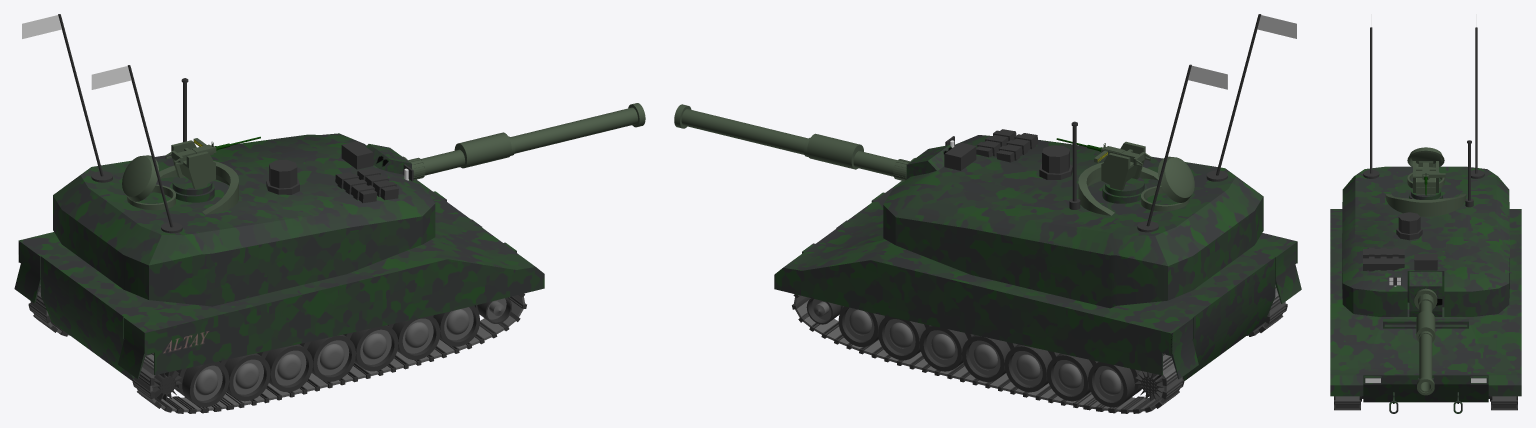
The picture shows the model from 3 angles, left to right: view 1: azimuth 30°, elevation 25°; view 2: azimuth 150°, elevation 25°; view 3: azimuth 270°, elevation 25°; orthographic projection. The views are drawn at different scales.
Visible parts, largest first — view 1: tank_main, tank_wheels, tank_barrel rotater, tank_palett, Cylinder, Cylinder.001, tank_upper.002, tank_Second_gun_guard.001, tank_wheel_rotater, Cube, tank_cogwheel; view 2: tank_main, tank_wheels, tank_barrel rotater, tank_palett, Cylinder.001, Cylinder, tank_Second_gun_guard.001, tank_upper.002, tank_wheel_rotater, Cube, tank_cogwheel; view 3: tank_main, tank_barrel rotater, tank_palett, tank_Second_gun_guard.001, Cylinder, Cylinder.001, tank_upper.002, Cube, tank_upper.003.
Part boxes in pixels (x1=…): tank_main: x1=14, y1=133, x2=544, y2=380; tank_wheels: x1=175, y1=306, x2=479, y2=407; tank_barrel rotater: x1=366, y1=103, x2=645, y2=179; tank_palett: x1=28, y1=284, x2=526, y2=413; Cylinder: x1=91, y1=65, x2=182, y2=233; Cylinder.001: x1=22, y1=14, x2=112, y2=182; tank_upper.002: x1=122, y1=155, x2=158, y2=201; tank_Second_gun_guard.001: x1=171, y1=140, x2=215, y2=189; tank_wheel_rotater: x1=474, y1=297, x2=511, y2=323; Cube: x1=165, y1=136, x2=260, y2=165; tank_cogwheel: x1=152, y1=370, x2=182, y2=400; tank_main: x1=774, y1=129, x2=1301, y2=380; tank_wheels: x1=838, y1=306, x2=1141, y2=407; tank_barrel rotater: x1=674, y1=104, x2=951, y2=181; tank_palett: x1=792, y1=285, x2=1287, y2=413; Cylinder.001: x1=1137, y1=64, x2=1227, y2=232; Cylinder: x1=1206, y1=14, x2=1296, y2=181; tank_Second_gun_guard.001: x1=1101, y1=141, x2=1145, y2=190; tank_upper.002: x1=1158, y1=156, x2=1194, y2=202; tank_wheel_rotater: x1=806, y1=298, x2=843, y2=324; Cube: x1=1056, y1=138, x2=1151, y2=166; tank_cogwheel: x1=1135, y1=371, x2=1164, y2=400; tank_main: x1=1330, y1=166, x2=1521, y2=413; tank_barrel rotater: x1=1409, y1=271, x2=1442, y2=395; tank_palett: x1=1334, y1=396, x2=1517, y2=410; tank_Second_gun_guard.001: x1=1413, y1=161, x2=1438, y2=194; Cylinder: x1=1363, y1=14, x2=1379, y2=178; Cylinder.001: x1=1471, y1=14, x2=1484, y2=178; tank_upper.002: x1=1407, y1=147, x2=1444, y2=167; Cube: x1=1418, y1=161, x2=1445, y2=195; tank_upper.003: x1=1465, y1=140, x2=1473, y2=207.
Bounding box in the file's own units: 920 × 523 × 345.
8 materials, 1 textured.
